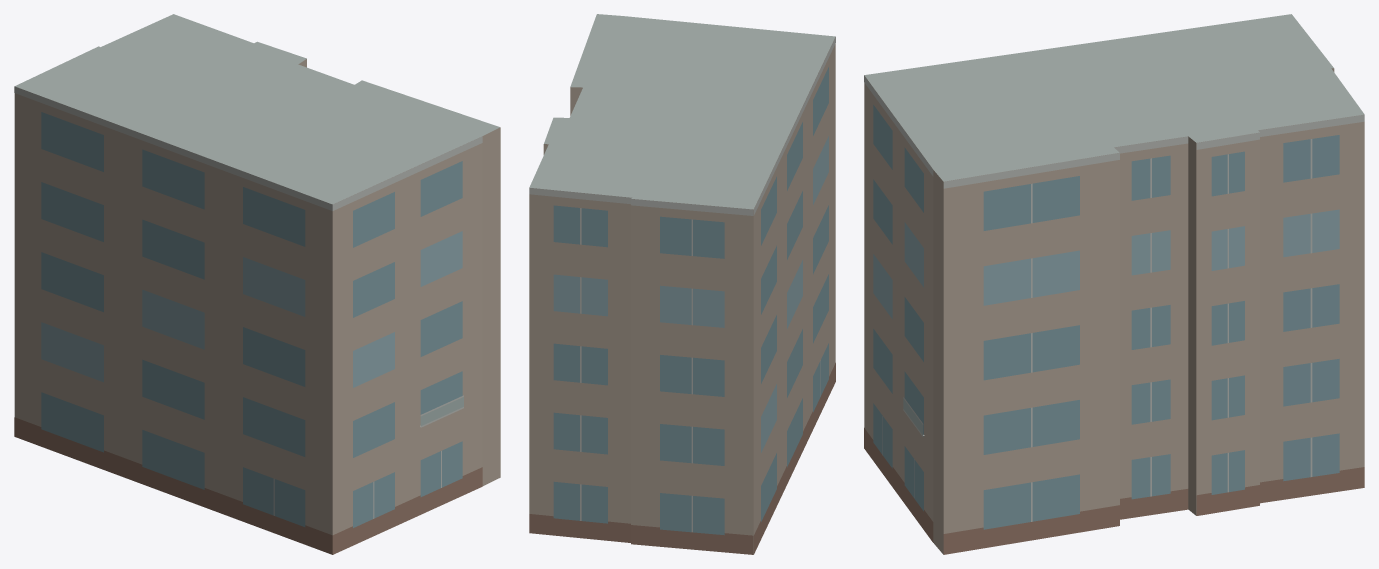
The model's file is survey-upis-32740933.glb.
3 views of the same model, side by side, from view 1: azimuth 30°, elevation 25°; view 2: azimuth 150°, elevation 25°; view 3: azimuth 270°, elevation 25° (orthographic). The views are drawn at different scales.
Parts seen in each view (by area): view 1: survey-upis-32740933.tmp; view 2: survey-upis-32740933.tmp; view 3: survey-upis-32740933.tmp.
Part boxes in pixels (x1=…): survey-upis-32740933.tmp: x1=14, y1=14, x2=500, y2=554; survey-upis-32740933.tmp: x1=529, y1=14, x2=835, y2=554; survey-upis-32740933.tmp: x1=864, y1=14, x2=1364, y2=554.
Size of the model in its own units: 12.34 by 12.8 by 15.57.
